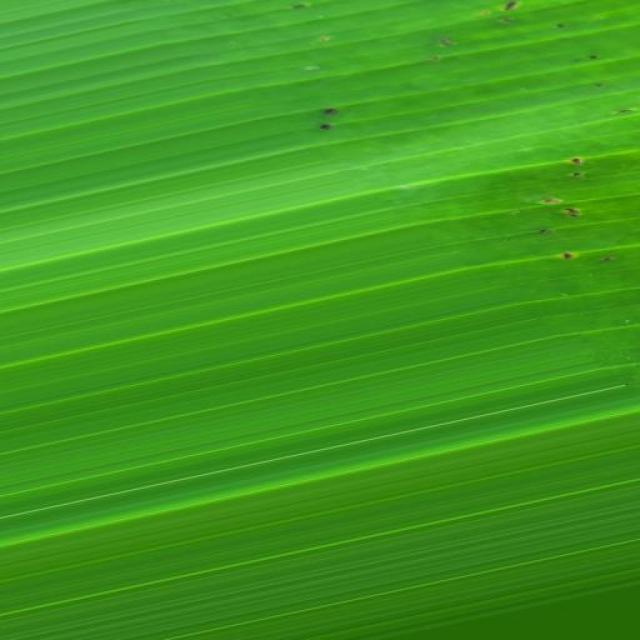Black_rot: (572, 8, 640, 133), (552, 134, 590, 284), (295, 81, 369, 158), (482, 2, 534, 34)
